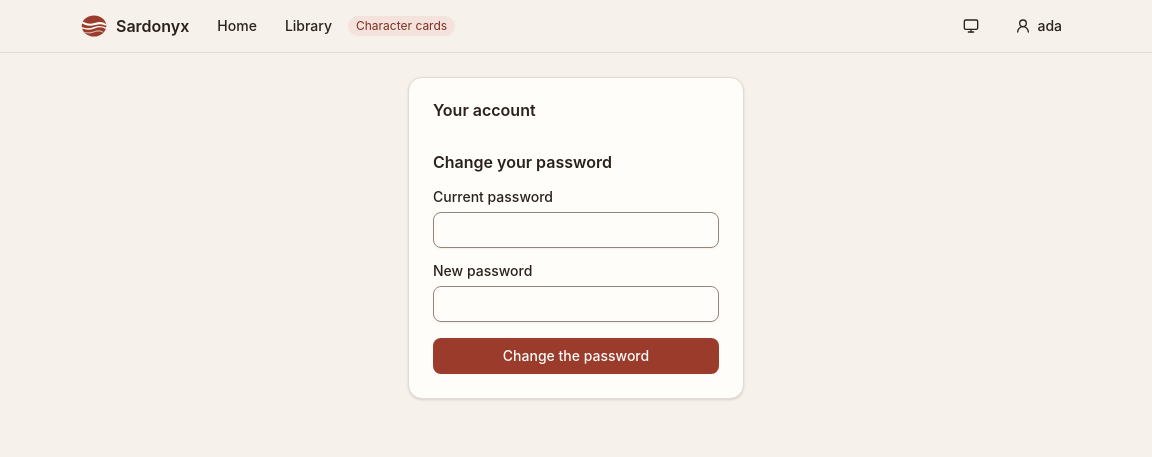
the account page › checks the current password, then sends the new one with the version
The width and height of the screenshot is (1152, 457).
In the password field labelled "Current password": {"x": 576, "y": 230} [433,212,719,248], type "old-pass"
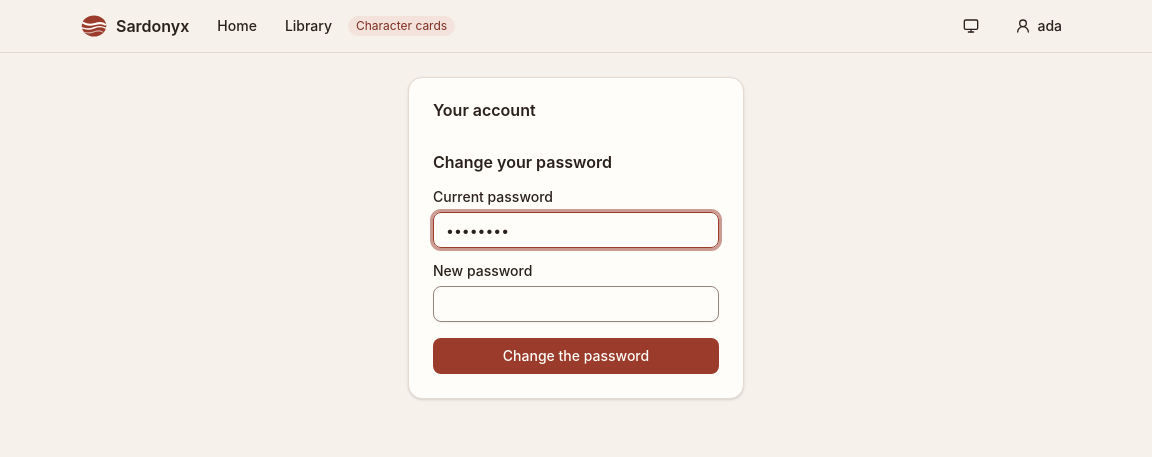
In the password field labelled "New password": {"x": 576, "y": 304} [433,286,719,322], type "brand-new"
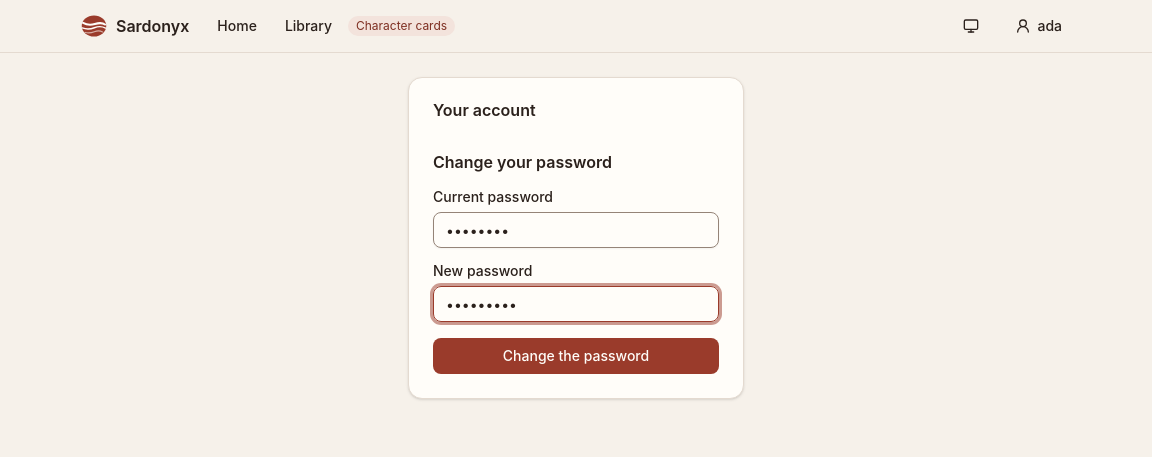
Click the button "Change the password": {"x": 576, "y": 356} [433,338,719,374]
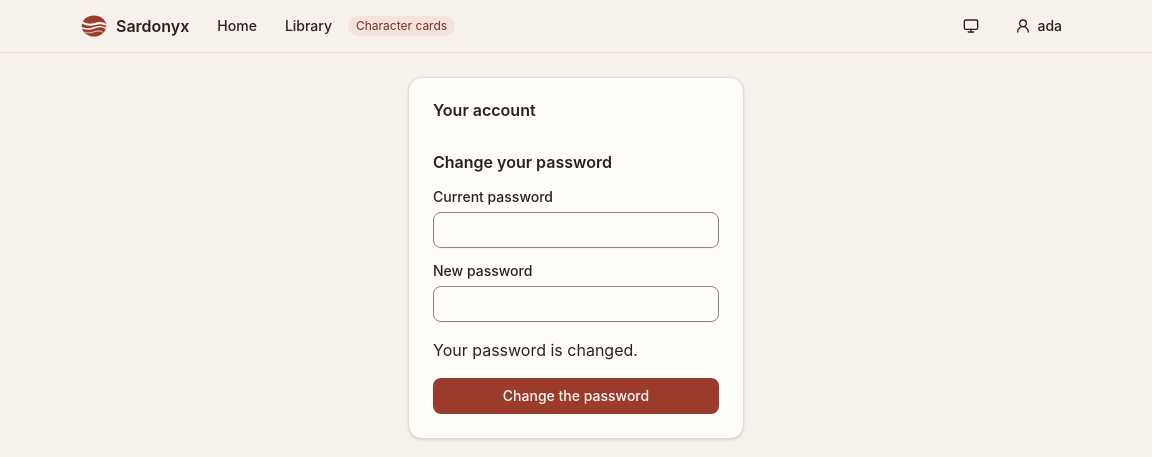
Expected: the message reads "Your password is changed.", [433,340,638,360]
Expected: the password field labelled "Current password" is empty, [433,212,719,248]
Expected: the password field labelled "New password" is empty, [433,286,719,322]
